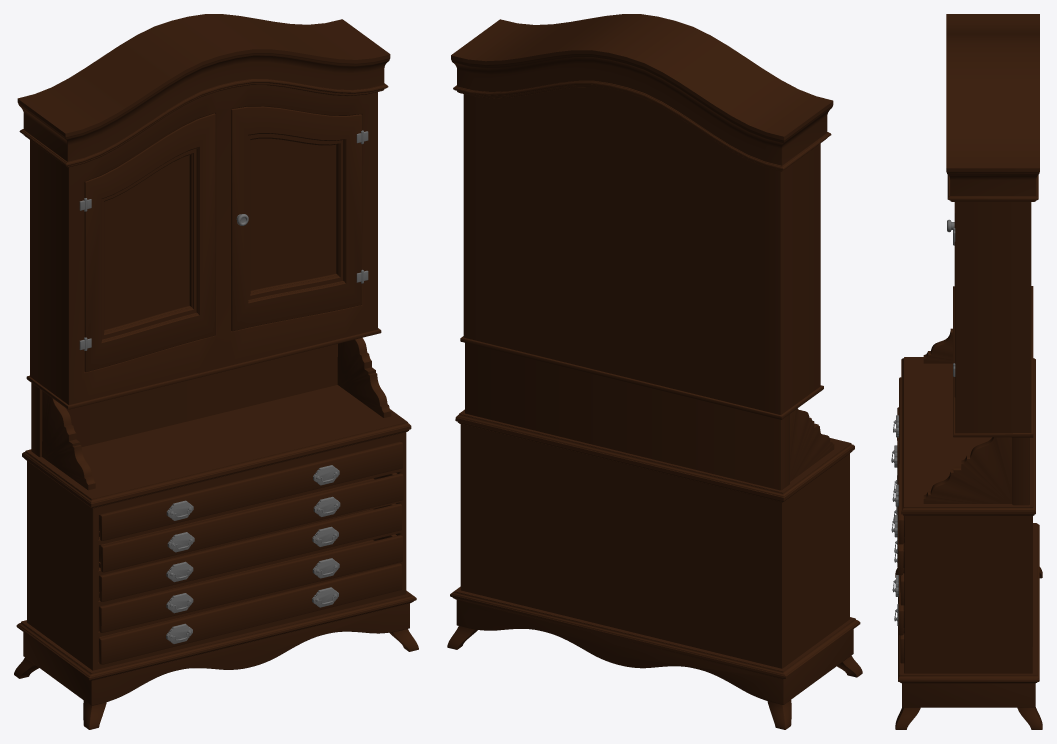
File: Mueble.fbx
3 views of the same model, side by side, from view 1: azimuth 30°, elevation 25°; view 2: azimuth 150°, elevation 25°; view 3: azimuth 270°, elevation 25° (orthographic). The views are drawn at different scales.
Parts seen in each view (by area): view 1: Cupboard_Fancy; view 2: Cupboard_Fancy; view 3: Cupboard_Fancy.
Boxes of the visible parts, x1,y1,x2,y2 form: Cupboard_Fancy: (14,14,418,729); Cupboard_Fancy: (447,14,862,729); Cupboard_Fancy: (891,14,1042,729).
Bounding box in the file's own units: 150 × 268 × 61.15.
